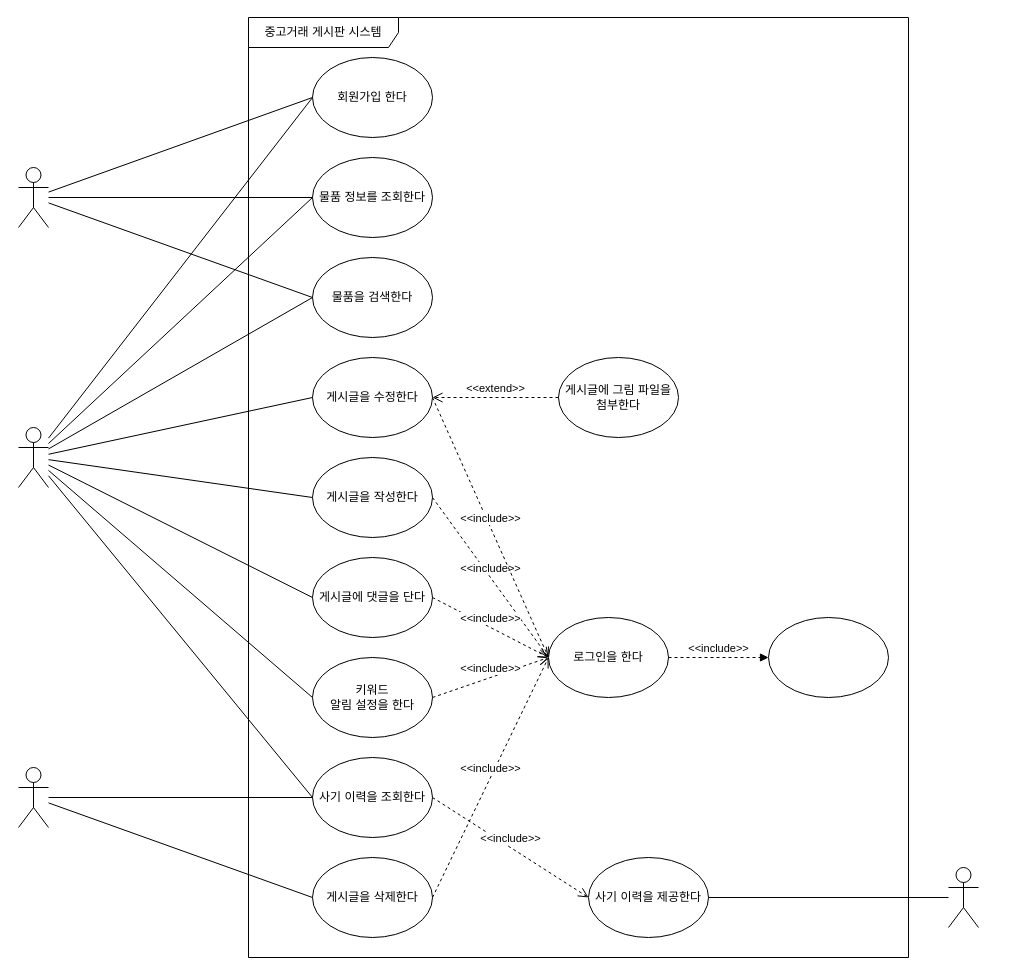
This 1019x975 diagram has some shape labels left out. The shapes that lost their labels are listed below. From the top down, each one's centre as x and y in pixels, then its label:
At point 33,197: "비회원".
At point 33,457: "회원".
At point 828,657: "사용자 인증을 받는다".
At point 33,797: "관리자".
At point 963,897: "사기방지플랫폼".
